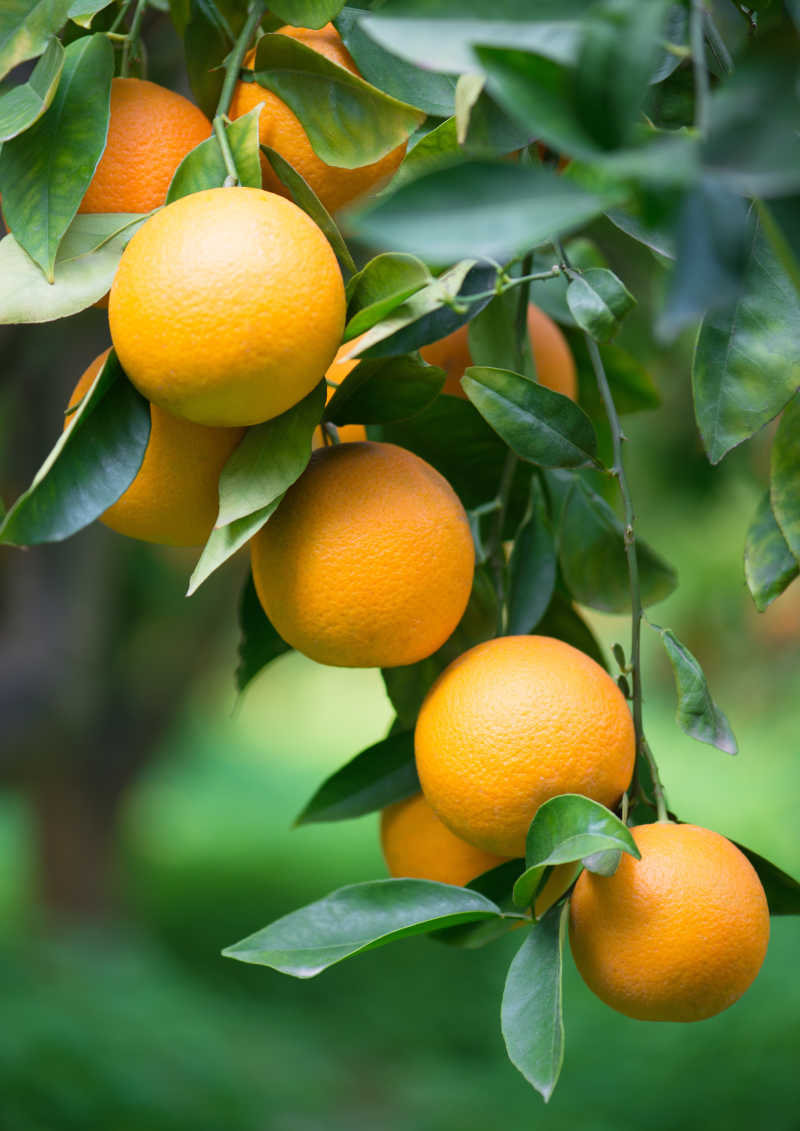orange: (322, 252, 577, 508), (108, 187, 345, 432), (252, 435, 475, 672), (414, 634, 635, 860), (67, 335, 280, 544), (569, 819, 768, 1025), (35, 80, 230, 281), (227, 28, 416, 220), (383, 756, 529, 921)
